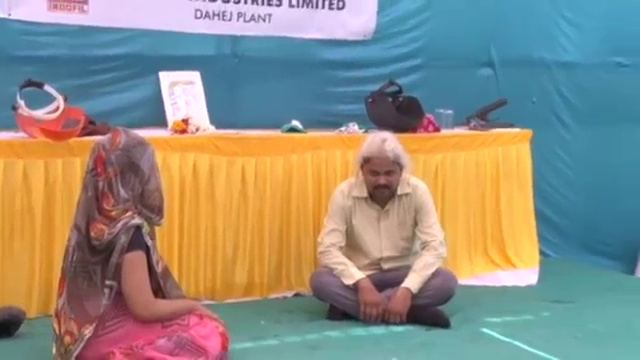helmet_off: (80, 131, 165, 224), (360, 135, 405, 201)
person: (47, 128, 231, 360), (308, 130, 458, 328)
